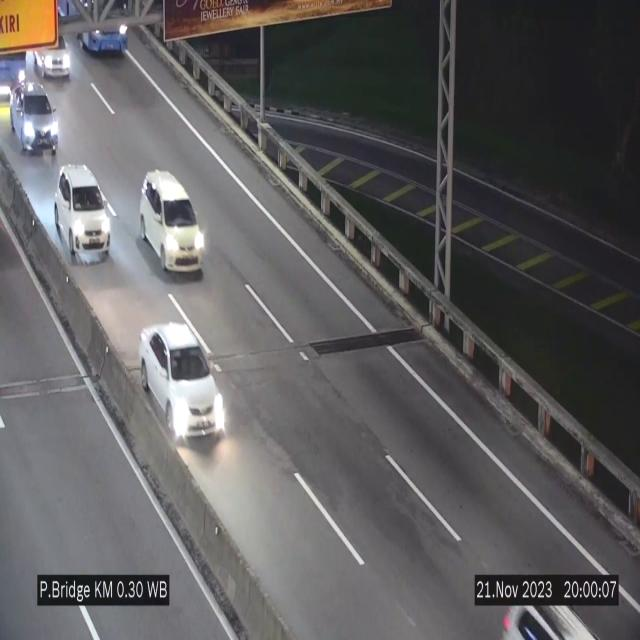Bus: (59, 0, 137, 54), (0, 39, 34, 102)
Car: (140, 323, 226, 439), (139, 170, 205, 276), (54, 164, 111, 262), (12, 82, 58, 156), (33, 27, 77, 80)
